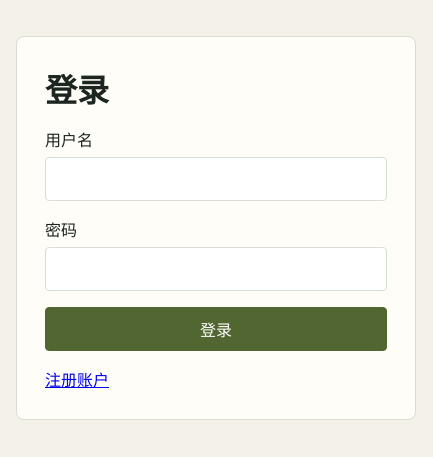
Scenario: authentication pages › reports repository login failures without navigating
The width and height of the screenshot is (433, 457).
Type "user_demo" into the field named "username". click: (216, 179)
box: [45,157,387,201]
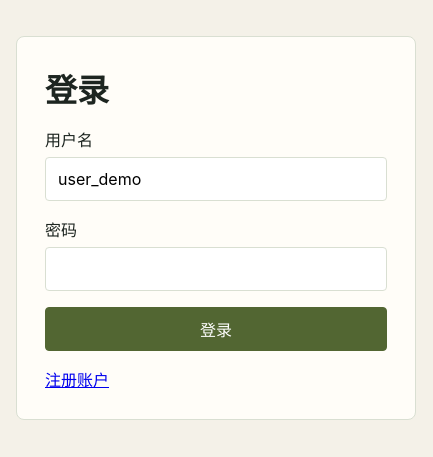
Type "incorrect" into the password field named "password". click: (216, 269)
box: [45,247,387,291]
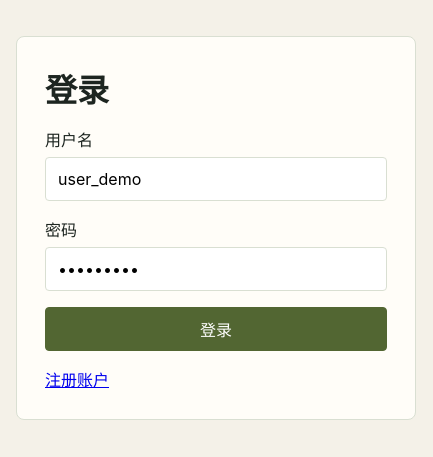
Submit the form
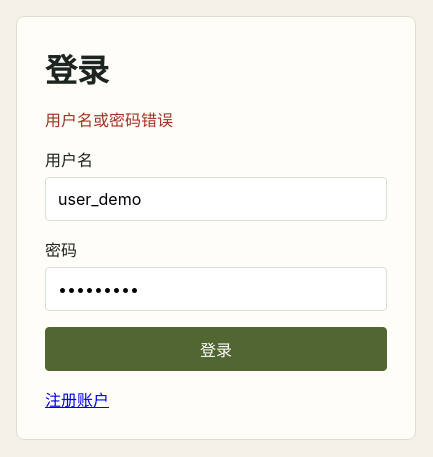
Result: the message "用户名或密码错误" is shown at [45,110,173,130]
